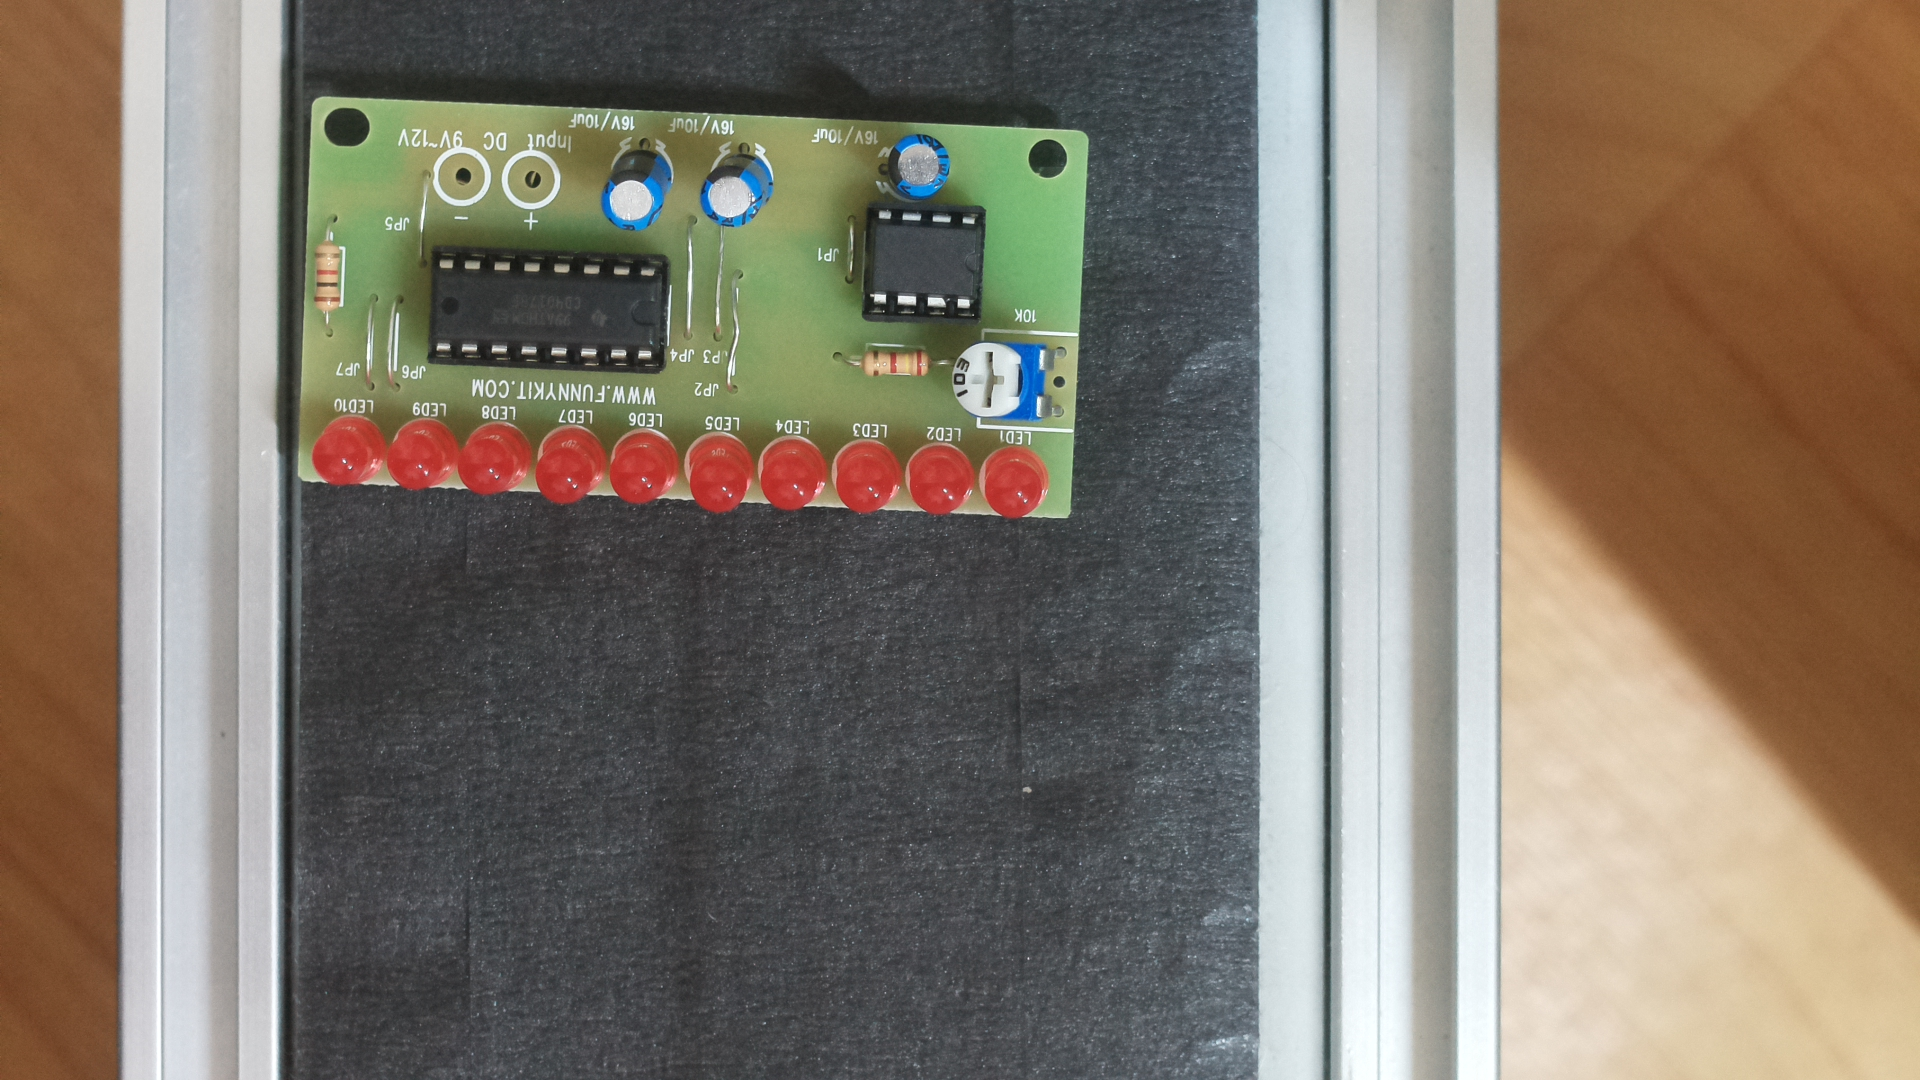B_Normal: (281, 74, 1095, 554)
